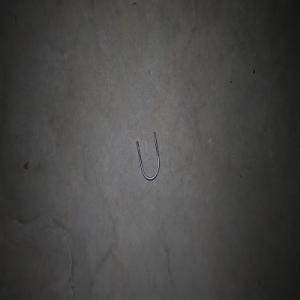ClampPart: (135, 130, 160, 181)
